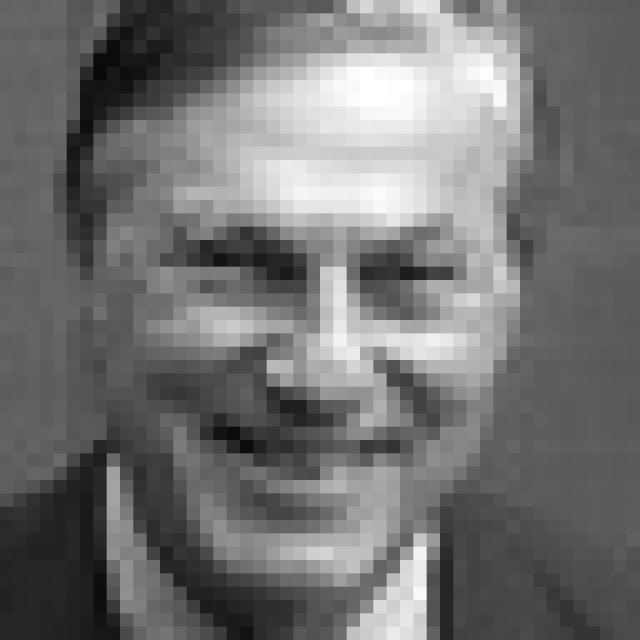happy: (157, 202, 484, 537)
